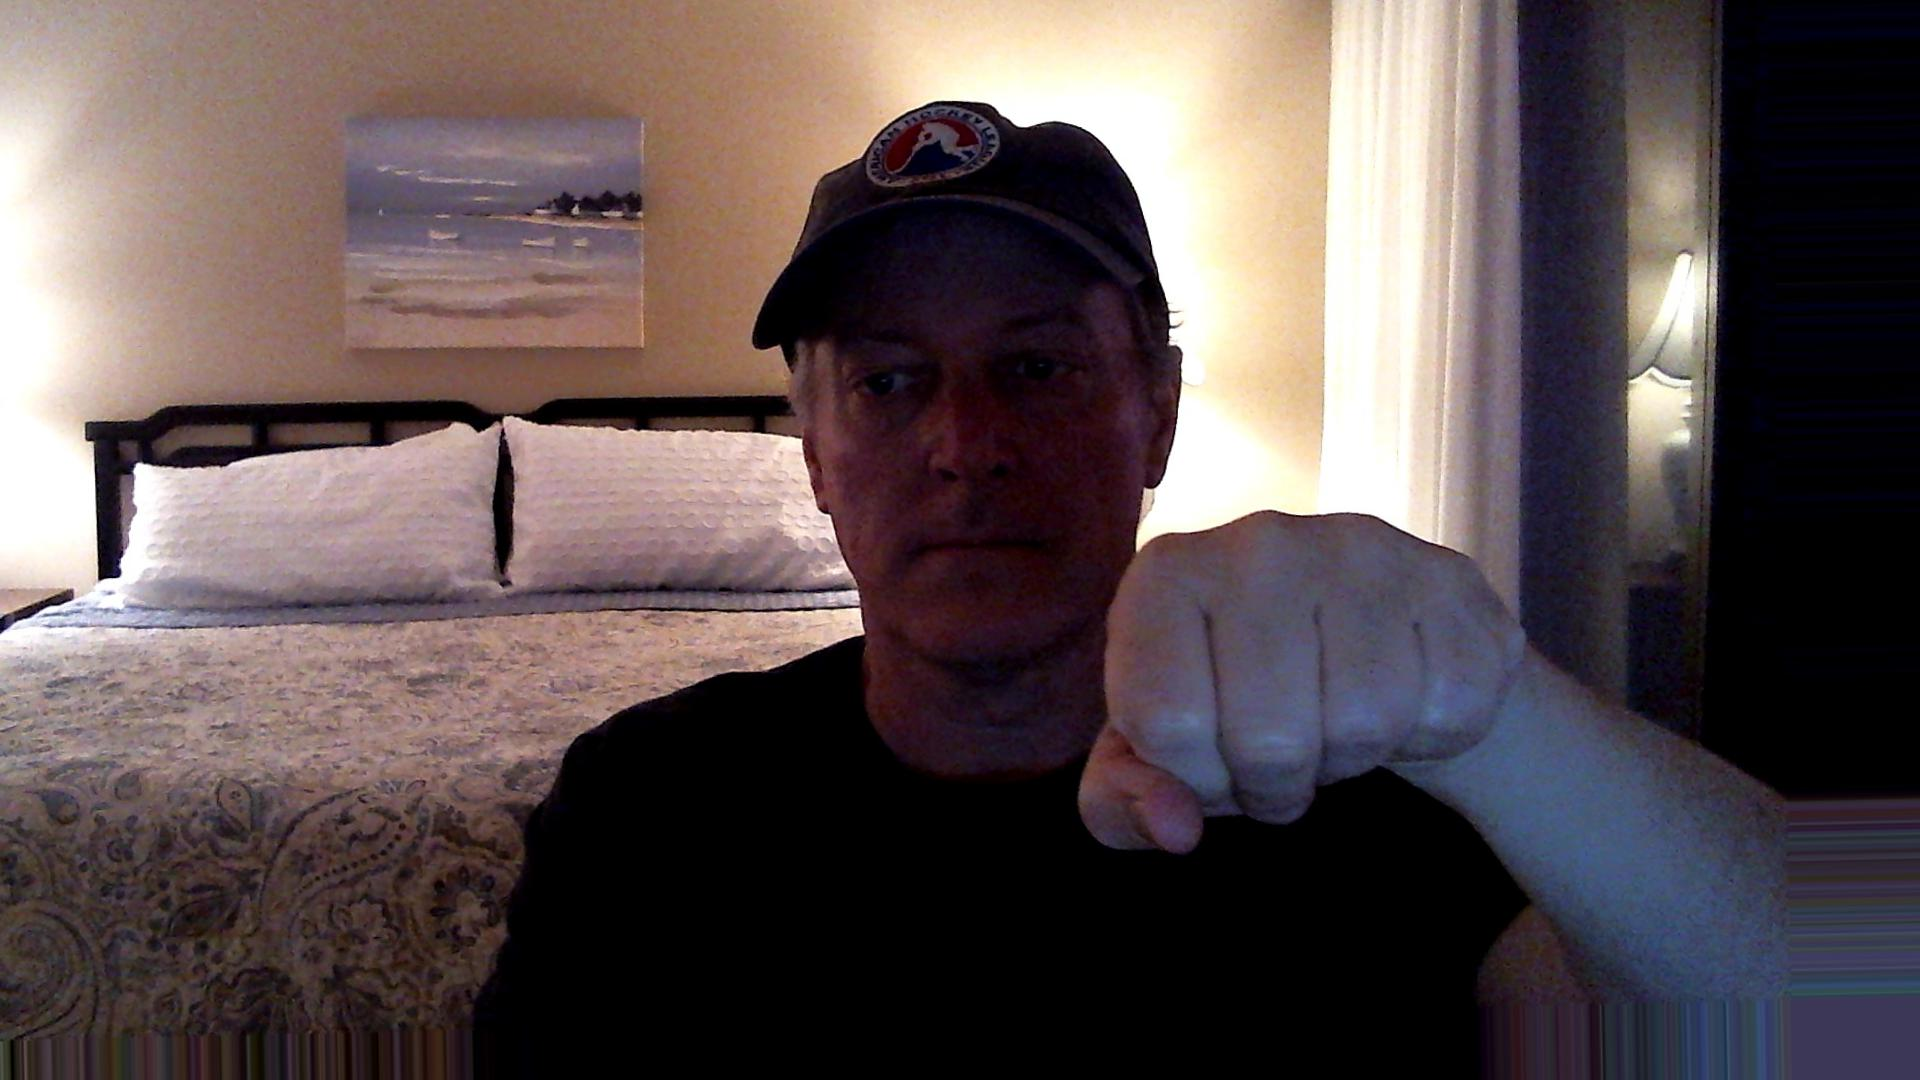Yes: (1062, 502, 1571, 866)
